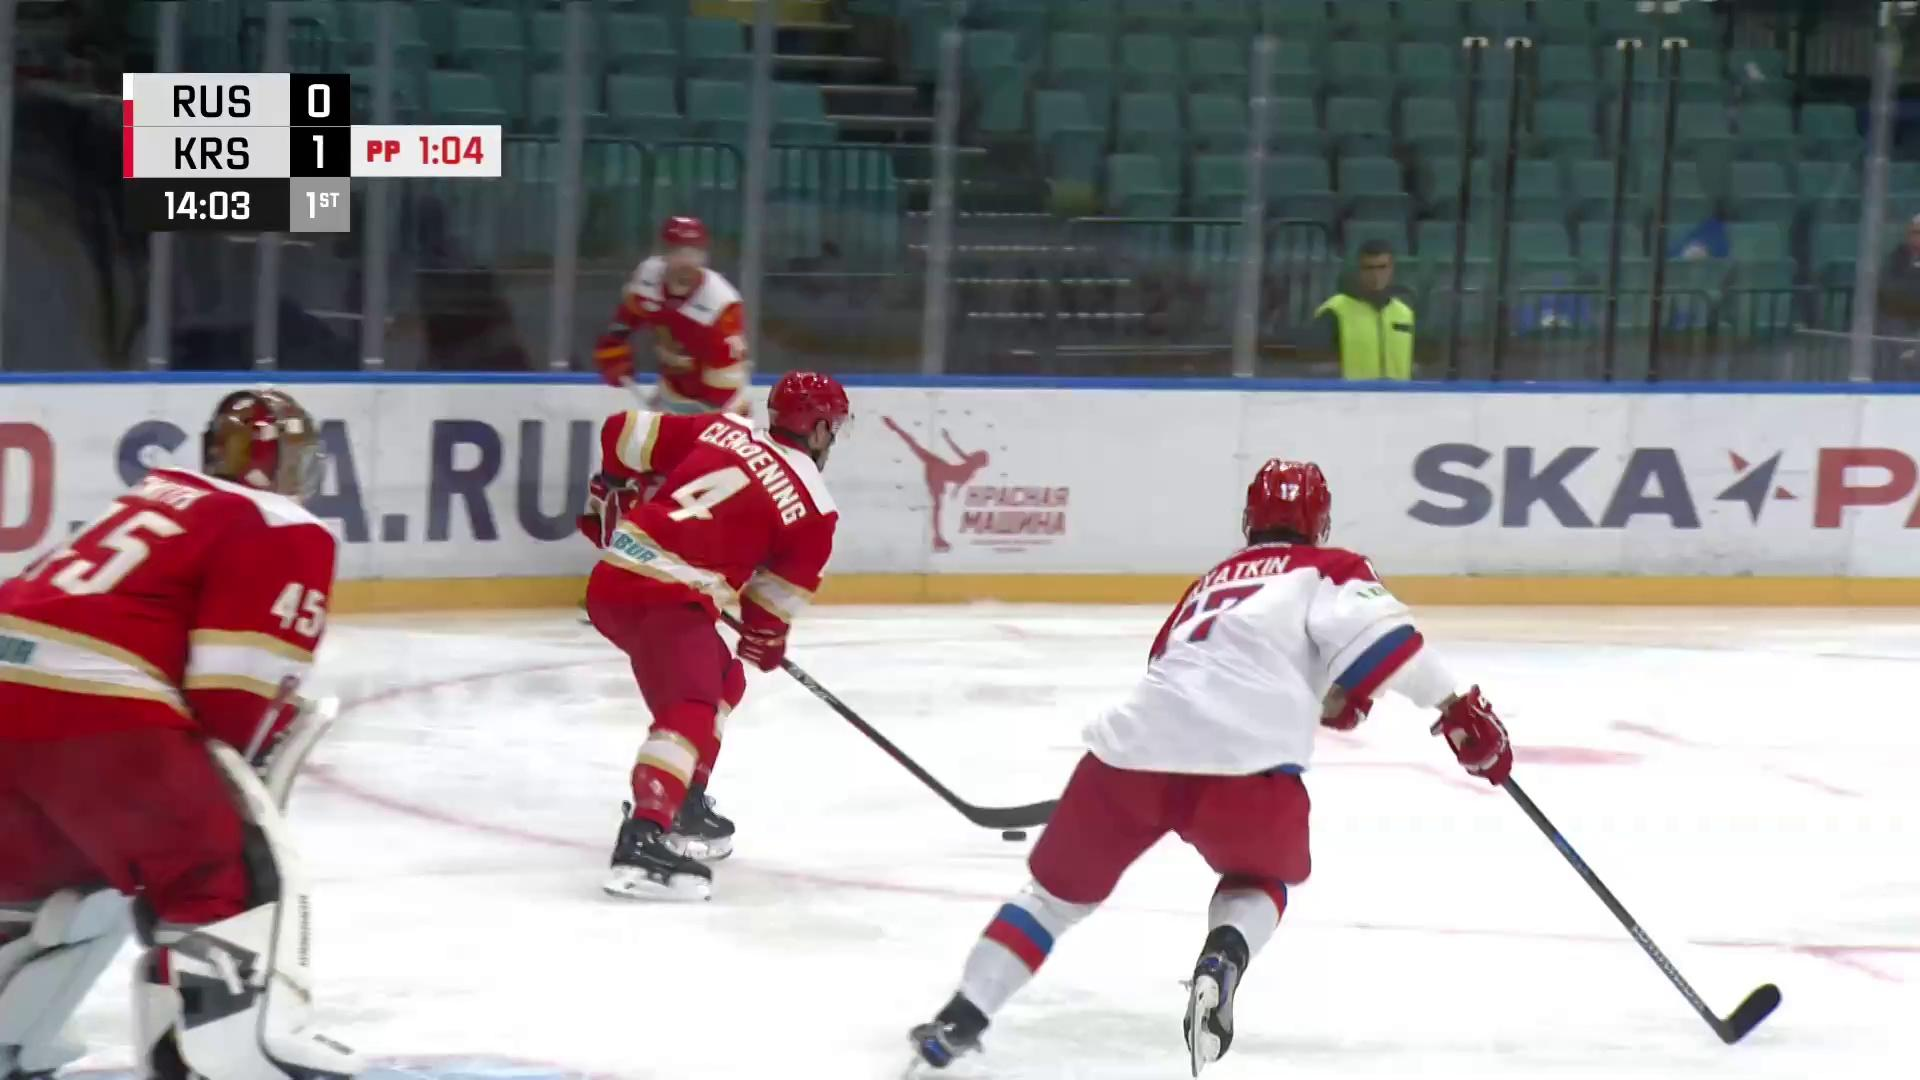ball: (1000, 828, 1029, 844)
